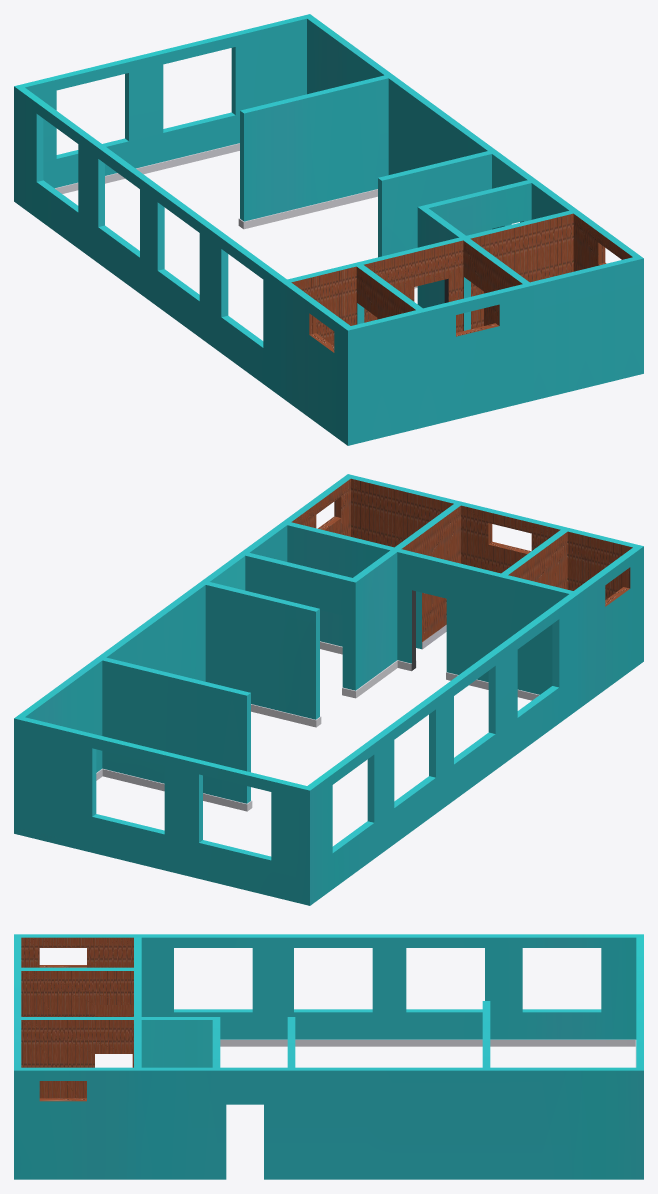
The model's file is General2.obj.
The picture shows the model from 3 angles, top to bottom: view 1: azimuth 30°, elevation 25°; view 2: azimuth 150°, elevation 25°; view 3: azimuth 270°, elevation 25°; orthographic projection. The views are drawn at different scales.
Parts seen in each view (by area): view 1: Cube_Cube.001; view 2: Cube_Cube.001; view 3: Cube_Cube.001.
Boxes of the visible parts, x1,y1,x2,y2 form: Cube_Cube.001: (14,14,643,445); Cube_Cube.001: (14,474,643,905); Cube_Cube.001: (14,934,643,1179).
Size of the model in its own units: 8.6 by 3.2 by 16.8.
